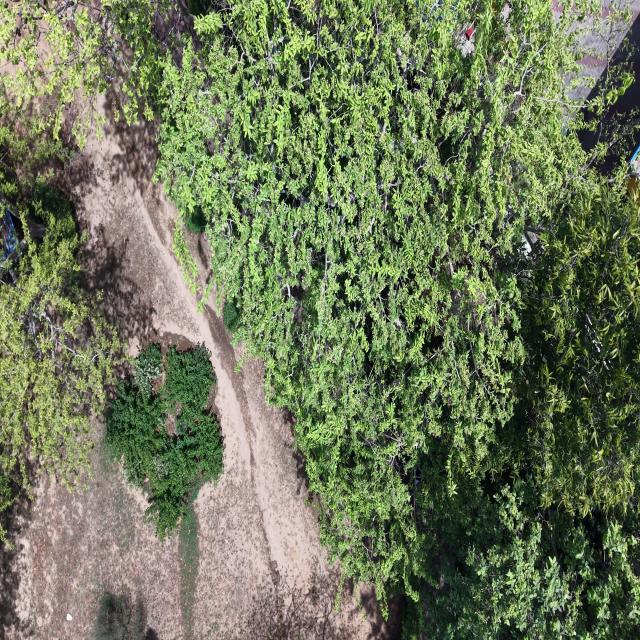DRY_AREA: (0, 104, 396, 639), (569, 0, 639, 101)
VEGETATION_TREE: (78, 0, 639, 639), (158, 0, 638, 637), (158, 2, 579, 594), (405, 179, 639, 639), (0, 0, 162, 508), (0, 2, 120, 510), (0, 75, 121, 511), (514, 177, 639, 516), (403, 478, 639, 639), (0, 188, 119, 507), (0, 0, 160, 148), (106, 344, 223, 541), (0, 94, 72, 217), (178, 506, 199, 636), (94, 590, 147, 639), (184, 208, 206, 234), (223, 300, 239, 334)
